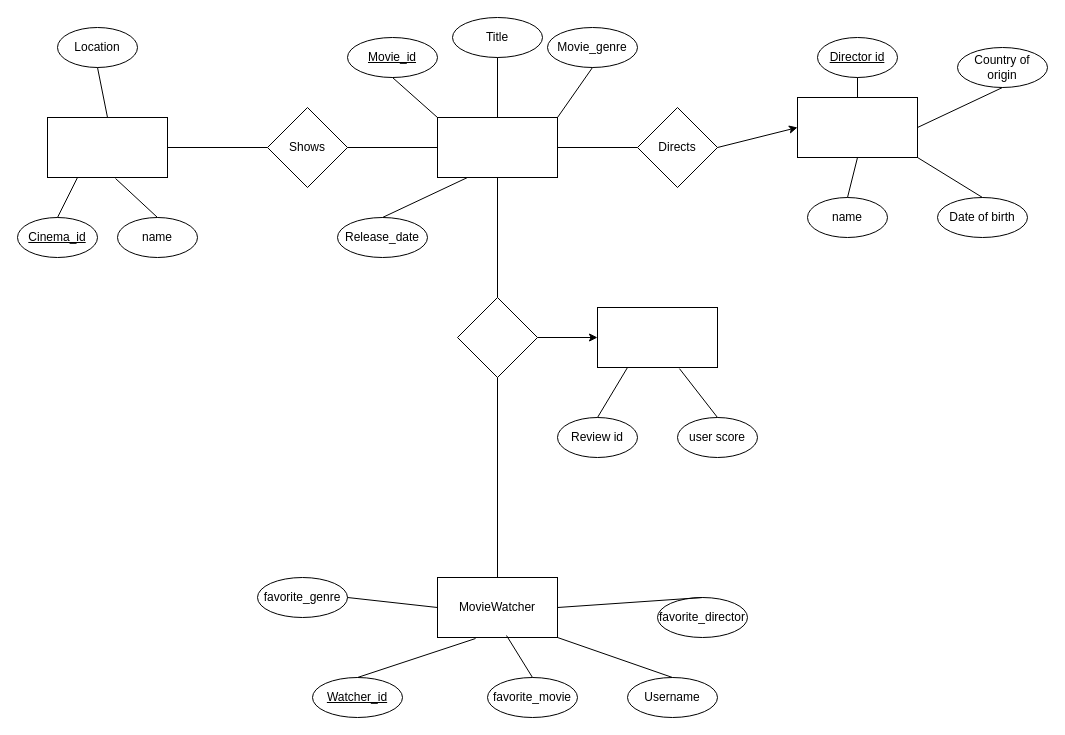
The diagram is 1065 pixels wide and 735 high, and some of its shapes have lost their labels. Each missing label, with the centre of its shape:
"Cinema" goes at (107,147).
"Director" goes at (857,127).
"Movies" goes at (497,147).
"Review" goes at (657,337).
"Reviews" goes at (497,337).
